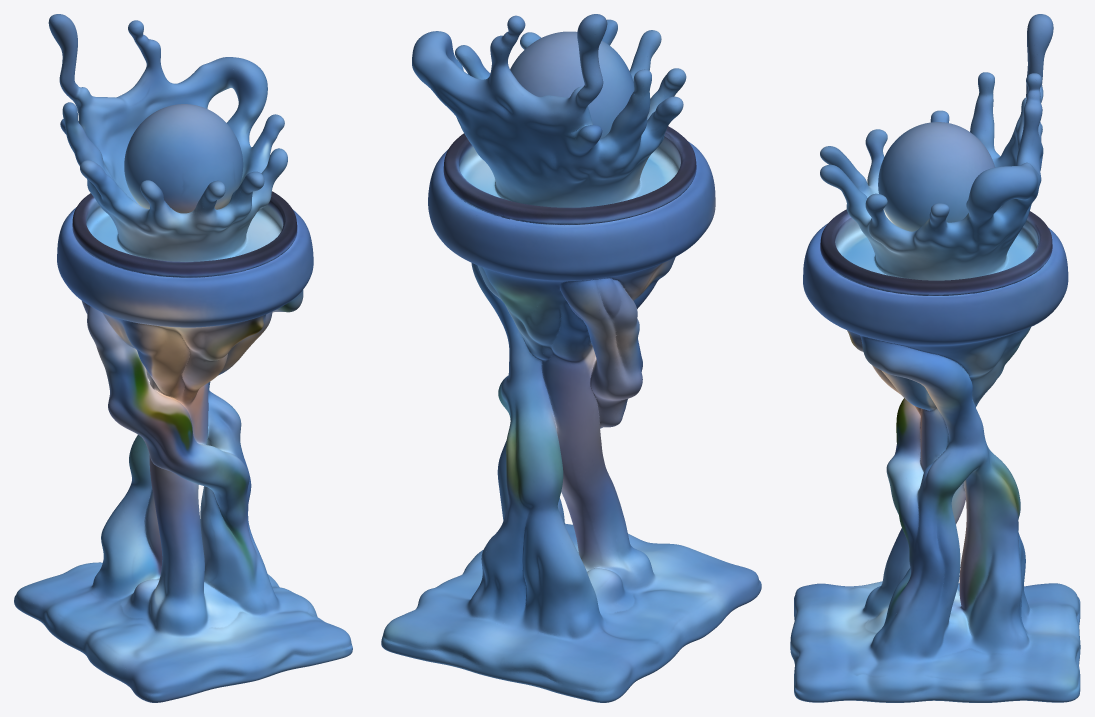
The picture shows the model from 3 angles, left to right: view 1: azimuth 30°, elevation 25°; view 2: azimuth 150°, elevation 25°; view 3: azimuth 270°, elevation 25°; orthographic projection. The views are drawn at different scales.
Visible parts, largest first — view 1: vizcom_node_0; view 2: vizcom_node_0; view 3: vizcom_node_0.
Boxes of the visible parts, box(x1,y1,x2,y2) form: vizcom_node_0: box(14, 14, 352, 702); vizcom_node_0: box(381, 14, 761, 702); vizcom_node_0: box(790, 14, 1080, 702).
Size of the model in its own units: 0.7321 by 1.9 by 0.8327.
Materials: 1 (1 with a texture image).
